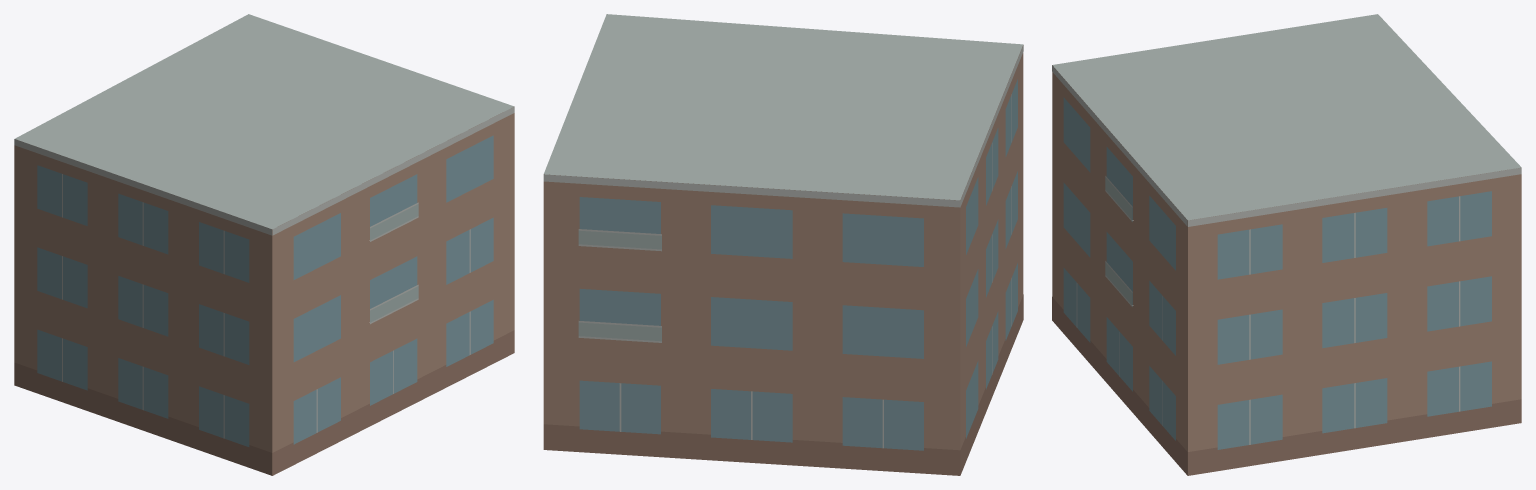
File: survey-upis-32852999.glb
The picture shows the model from 3 angles, left to right: view 1: azimuth 30°, elevation 25°; view 2: azimuth 150°, elevation 25°; view 3: azimuth 270°, elevation 25°; orthographic projection. The views are drawn at different scales.
Visible parts, largest first — view 1: survey-upis-32852999.tmp; view 2: survey-upis-32852999.tmp; view 3: survey-upis-32852999.tmp.
Part boxes in pixels (x1,y1,x2,y2): survey-upis-32852999.tmp: (14,14,514,475); survey-upis-32852999.tmp: (543,14,1023,475); survey-upis-32852999.tmp: (1052,14,1521,475).
Size of the model in its own units: 16.39 by 9.45 by 15.75.
